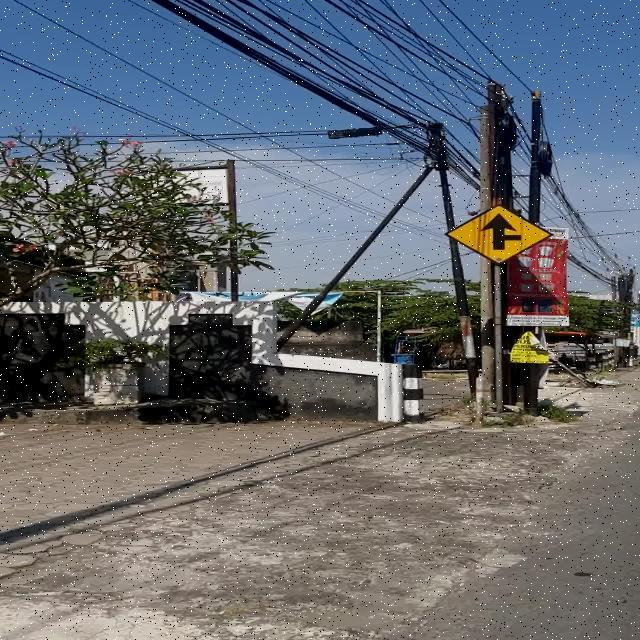Persimpangan 3 Prioritas Kanan: (445, 204, 553, 266)
